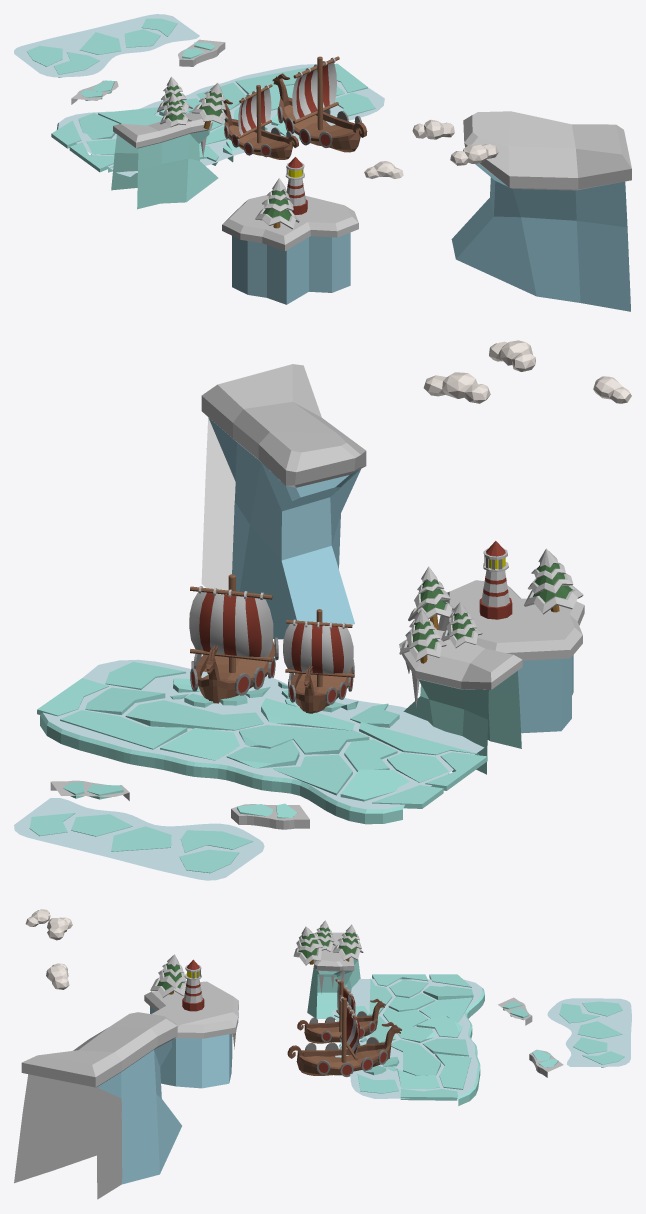
Rendered from vikings.fbx.
The picture shows the model from 3 angles, top to bottom: view 1: azimuth 30°, elevation 25°; view 2: azimuth 150°, elevation 25°; view 3: azimuth 270°, elevation 25°; orthographic projection. The views are drawn at different scales.
Parts seen in each view (by area): view 1: Vikings, Vikings.001, clouds; view 2: Vikings, Vikings.001, clouds; view 3: Vikings, Vikings.001, clouds.
Boxes of the visible parts, x1,y1,x2,y2 form: Vikings: [14, 14, 384, 304]; Vikings.001: [451, 111, 631, 311]; clouds: [364, 119, 498, 178]; Vikings: [14, 541, 584, 880]; Vikings.001: [201, 364, 366, 639]; clouds: [423, 340, 631, 403]; Vikings: [144, 920, 631, 1105]; Vikings.001: [14, 1012, 181, 1199]; clouds: [25, 909, 72, 989].
Bounding box in the file's own units: 6568 × 3657 × 10786.
Materials: 2 (2 with a texture image).
